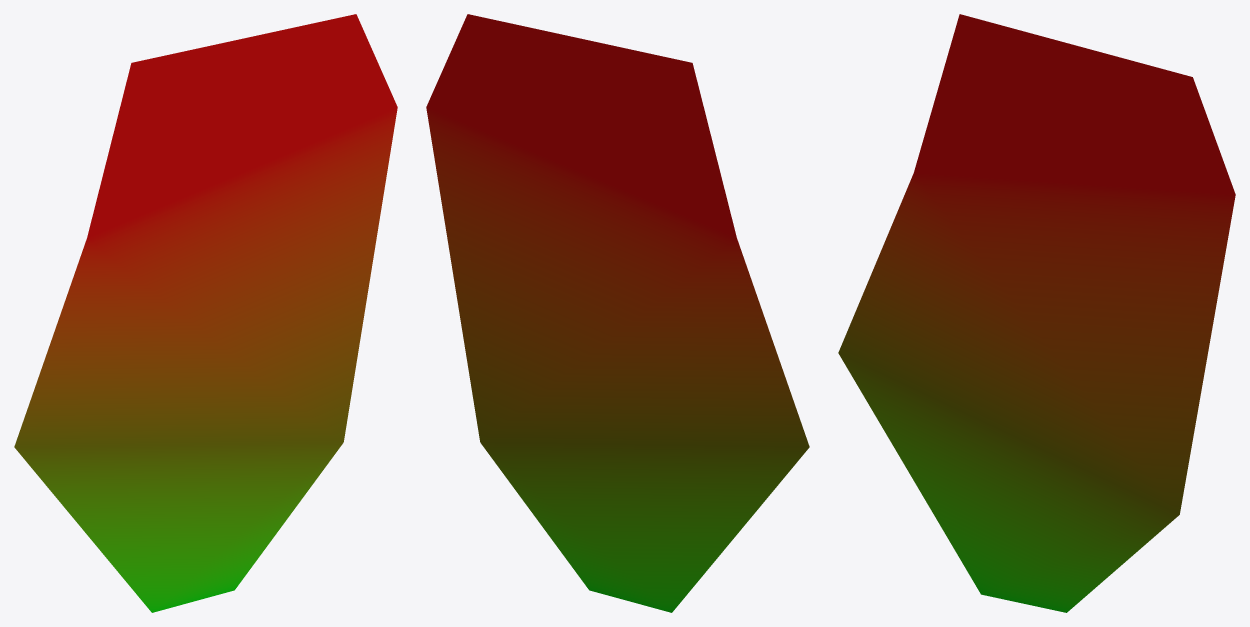
The model's file is Var2_LOD5.fbx.
3 views of the same model, side by side, from view 1: azimuth 30°, elevation 25°; view 2: azimuth 150°, elevation 25°; view 3: azimuth 330°, elevation 25° (orthographic). The views are drawn at different scales.
Visible parts, largest first — view 1: _f859_Var2_LOD5; view 2: _f859_Var2_LOD5; view 3: _f859_Var2_LOD5.
Part boxes in pixels (box(x1,y1,x2,y2)): _f859_Var2_LOD5: box(14, 14, 397, 612); _f859_Var2_LOD5: box(426, 14, 809, 612); _f859_Var2_LOD5: box(838, 14, 1235, 612).
Size of the model in its own units: 35.74 by 49.44 by 1.91e-06.
